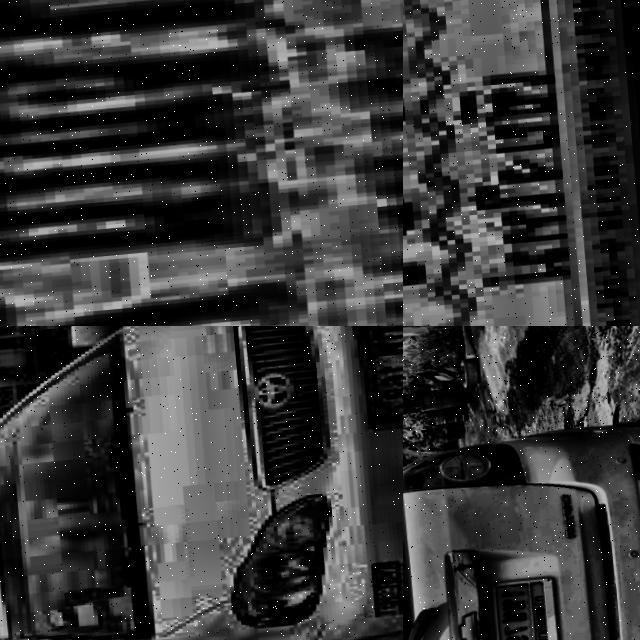license-plate: (0, 0, 403, 326), (403, 0, 640, 326), (348, 326, 403, 447), (487, 577, 564, 640)
